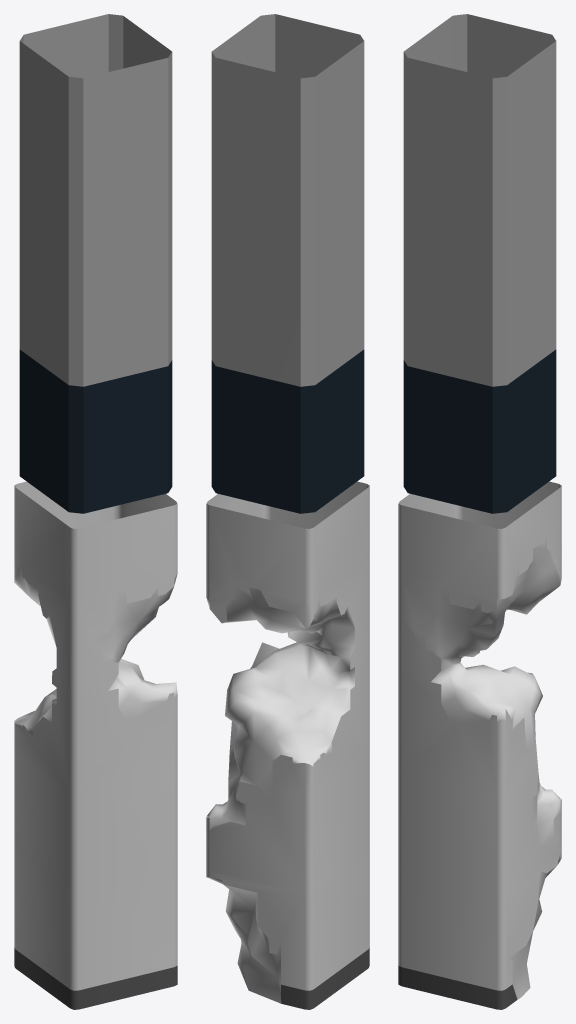
The model's file is SM_H_Building_Tide_Bathhouse_01K_ATLAS.fbx.
3 renders of one model, left to right at view 1: azimuth 30°, elevation 25°; view 2: azimuth 150°, elevation 25°; view 3: azimuth 330°, elevation 25°, orthographic.
Visible parts, largest first — view 1: SM_H_Building_Tide_Bathhouse_01K_ATLAS; view 2: SM_H_Building_Tide_Bathhouse_01K_ATLAS; view 3: SM_H_Building_Tide_Bathhouse_01K_ATLAS.
Boxes of the visible parts, bbox=[...] form: SM_H_Building_Tide_Bathhouse_01K_ATLAS: bbox=[14, 14, 177, 1009]; SM_H_Building_Tide_Bathhouse_01K_ATLAS: bbox=[206, 14, 369, 1009]; SM_H_Building_Tide_Bathhouse_01K_ATLAS: bbox=[398, 14, 561, 1009].
Bounding box in the file's own units: 114 × 114 × 955.
